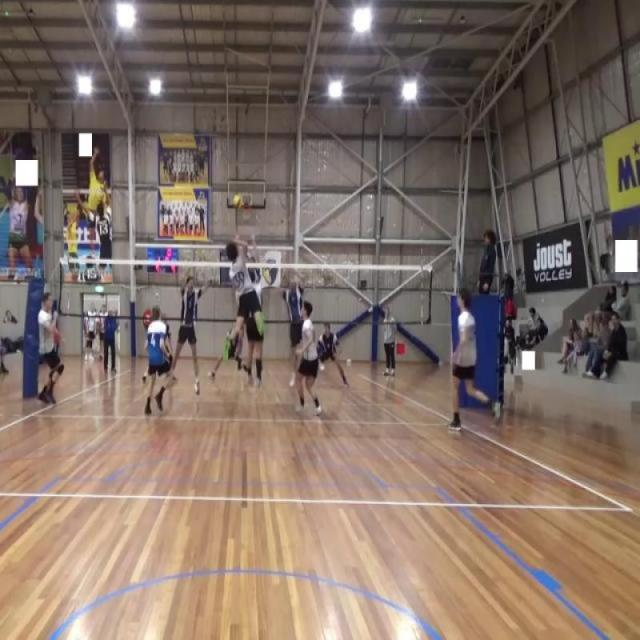volleyball: (232, 194, 243, 209)
